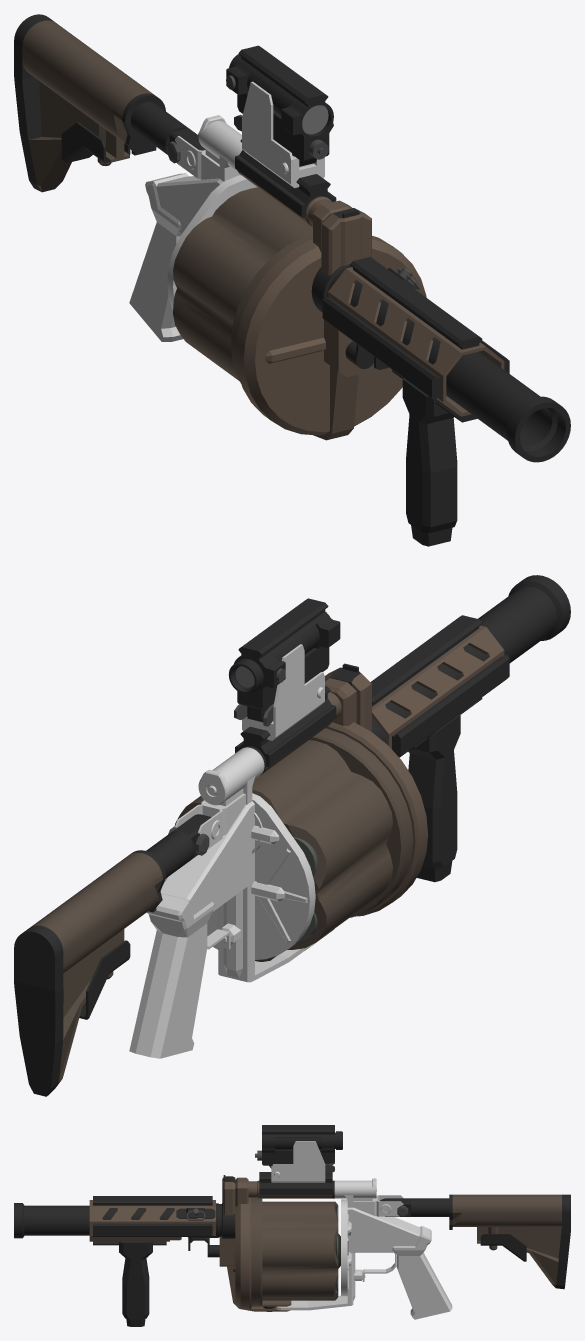
The model's file is GrenadeLauncher.fbx.
The picture shows the model from 3 angles, top to bottom: view 1: azimuth 30°, elevation 25°; view 2: azimuth 150°, elevation 25°; view 3: azimuth 270°, elevation 25°; orthographic projection. The views are drawn at different scales.
Visible parts, largest first — view 1: 立方体.005, 立方体.007, GL1.001, 立方体.004, 立方体; view 2: GL1.001, 立方体.005, 立方体.007, 立方体.004, 立方体; view 3: 立方体.005, GL1.001, 立方体.004, 立方体.007, 立方体, 立方体.006.
Part boxes in pixels (left/top/right/bottom): 立方体.005: left=235, top=139, right=570, bottom=546; 立方体.007: left=14, top=14, right=205, bottom=192; GL1.001: left=129, top=81, right=324, bottom=341; 立方体.004: left=173, top=187, right=312, bottom=383; 立方体: left=226, top=45, right=333, bottom=166; GL1.001: left=129, top=644, right=324, bottom=1058; 立方体.005: left=235, top=575, right=570, bottom=950; 立方体.007: left=14, top=814, right=211, bottom=1096; 立方体.004: left=174, top=728, right=413, bottom=961; 立方体: left=228, top=598, right=340, bottom=726; 立方体.005: left=14, top=1172, right=334, bottom=1326; GL1.001: left=271, top=1141, right=452, bottom=1319; 立方体.004: left=251, top=1197, right=340, bottom=1305; 立方体.007: left=380, top=1194, right=570, bottom=1289; 立方体: left=255, top=1125, right=342, bottom=1172; 立方体.006: left=188, top=1238, right=219, bottom=1257.
Bounding box in the file's own units: 0.1924 × 0.3568 × 0.9197.
